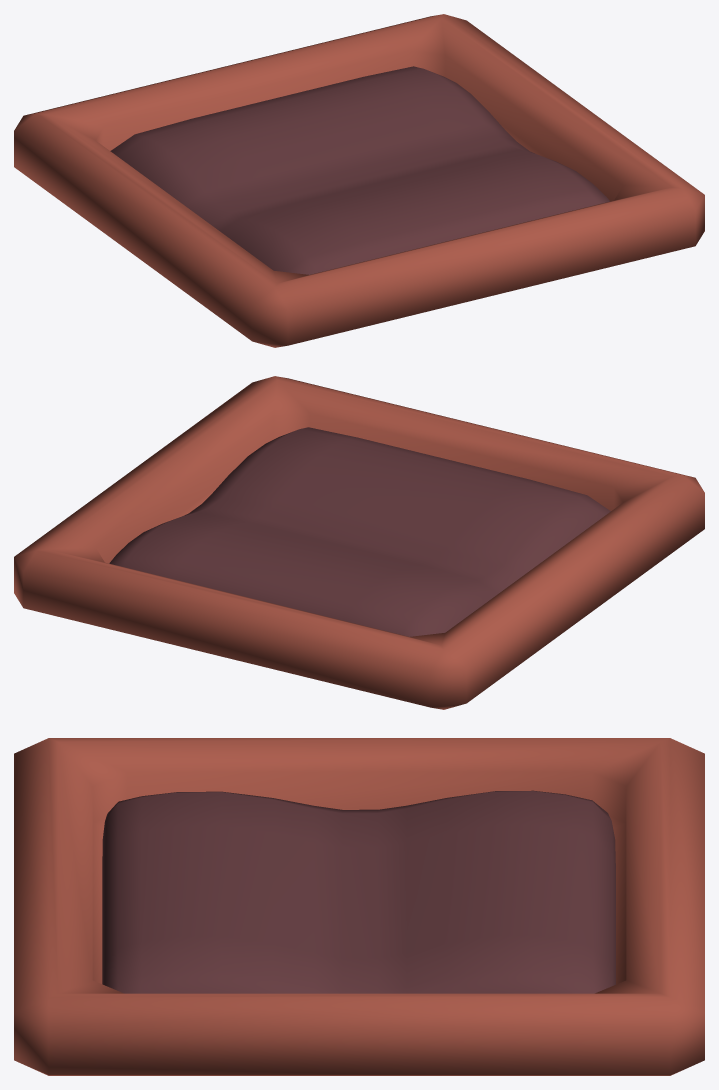
The model's file is Planter_w_Dirt.fbx.
3 views of the same model, one above another, from view 1: azimuth 30°, elevation 25°; view 2: azimuth 150°, elevation 25°; view 3: azimuth 270°, elevation 25° (orthographic). The views are drawn at different scales.
Visible parts, largest first — view 1: Planter_w_Dirt; view 2: Planter_w_Dirt; view 3: Planter_w_Dirt.
Boxes of the visible parts, x1,y1,x2,y2 form: Planter_w_Dirt: [14, 14, 704, 347]; Planter_w_Dirt: [14, 376, 704, 709]; Planter_w_Dirt: [14, 738, 704, 1075].
Bounding box in the file's own units: 246 × 31.35 × 249.
